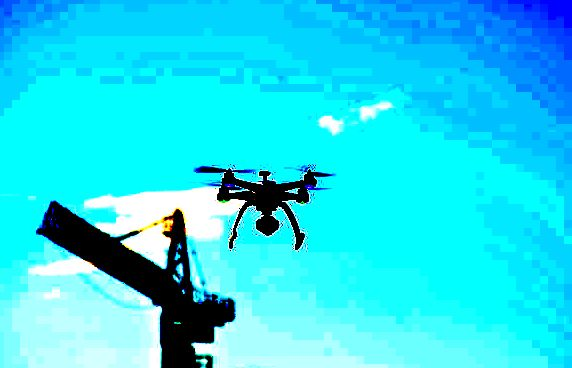Drone: (190, 160, 339, 257)
